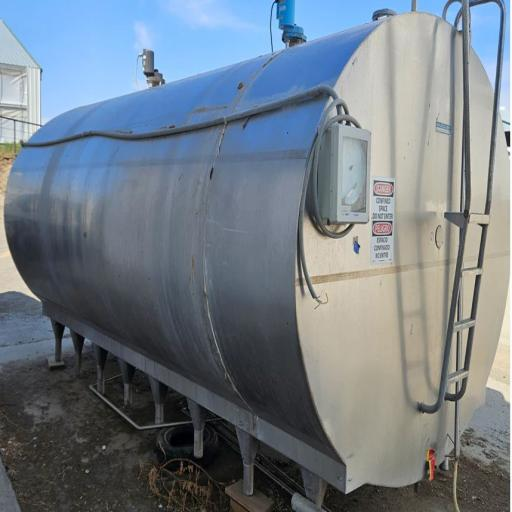silo: (4, 15, 511, 508)
